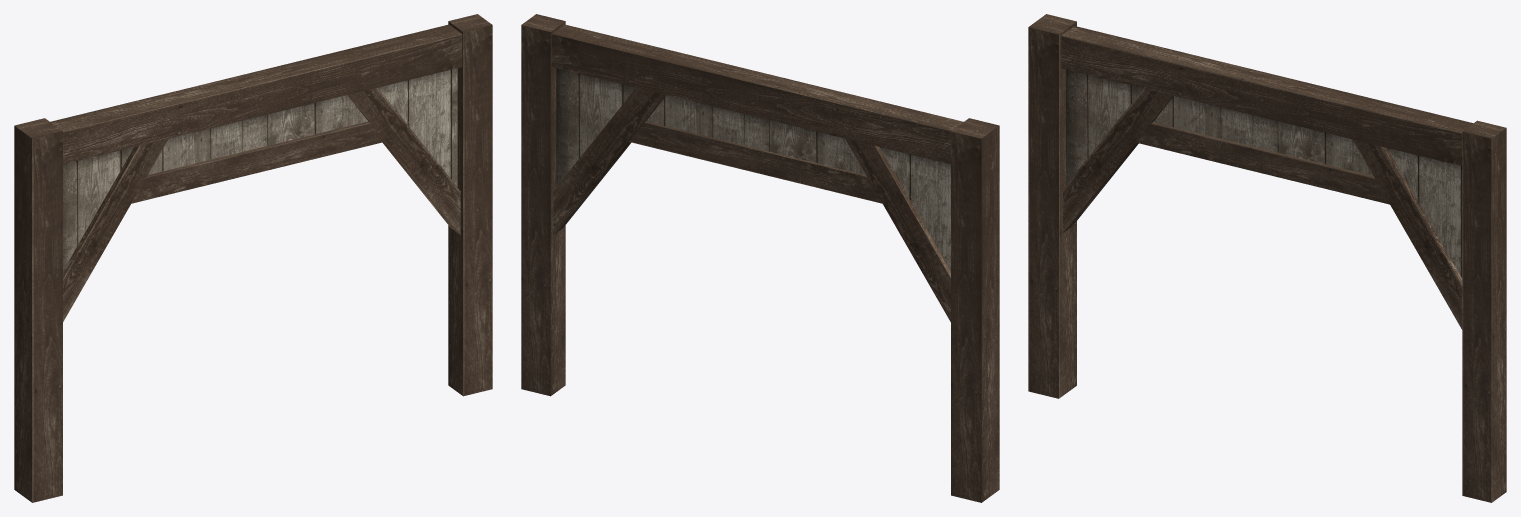
Rendered from Wooden_Arched_Door.dae.
3 views of the same model, side by side, from view 1: azimuth 30°, elevation 25°; view 2: azimuth 150°, elevation 25°; view 3: azimuth 330°, elevation 25° (orthographic).
Visible parts, largest first — view 1: WoodenArch1; view 2: WoodenArch1; view 3: WoodenArch1.
Part boxes in pixels (x1=…): WoodenArch1: x1=14, y1=14, x2=492, y2=502; WoodenArch1: x1=521, y1=14, x2=999, y2=502; WoodenArch1: x1=1028, y1=14, x2=1506, y2=502.
Size of the model in its own units: 4 by 3.01 by 0.272.
1 material, 1 textured.
